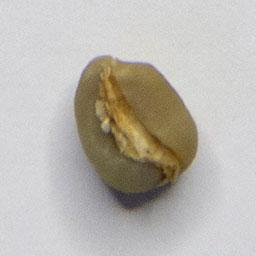premium: (71, 52, 201, 199)
